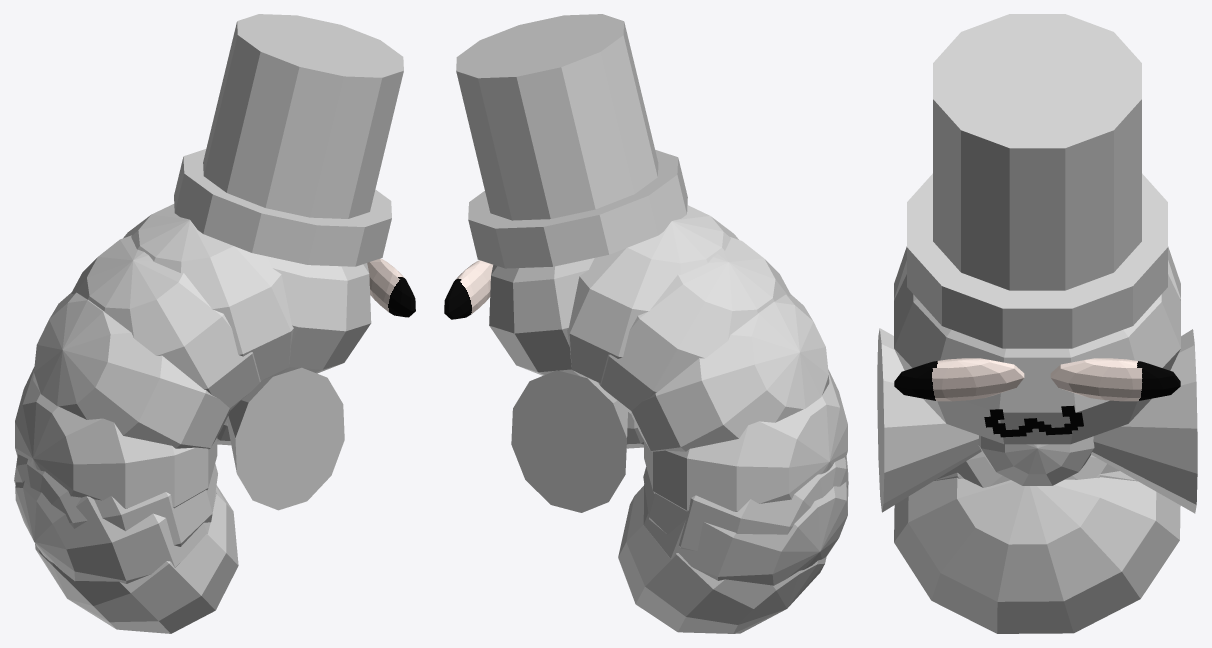
Rendered from pet-puffy.glb.
3 views of the same model, side by side, from view 1: azimuth 30°, elevation 25°; view 2: azimuth 150°, elevation 25°; view 3: azimuth 270°, elevation 25° (orthographic). The views are drawn at different scales.
Visible parts, largest first — view 1: Puffy, cylinder, cone_1; view 2: Puffy, cylinder, cone_1; view 3: cylinder, Puffy, cone_1, plane.
Boxes of the visible parts, x1,y1,x2,y2 form: Puffy: (14, 204, 415, 633); cylinder: (174, 14, 403, 266); cone_1: (217, 367, 344, 510); Puffy: (444, 205, 848, 633); cylinder: (456, 14, 687, 268); cone_1: (511, 370, 643, 512); cylinder: (907, 14, 1167, 348); Puffy: (894, 246, 1180, 633); cone_1: (877, 328, 1197, 513); plane: (984, 405, 1083, 437).
Size of the model in its own units: 0.1516 by 0.2223 by 0.0954.
Materials: 3 (2 with a texture image).
